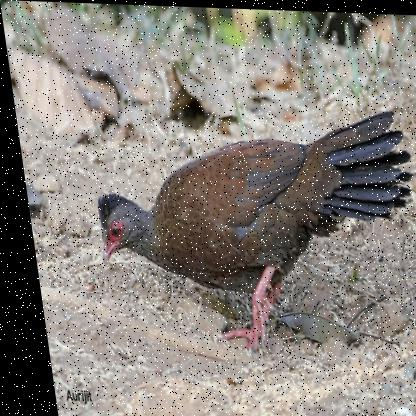Burung: (75, 97, 415, 354)
